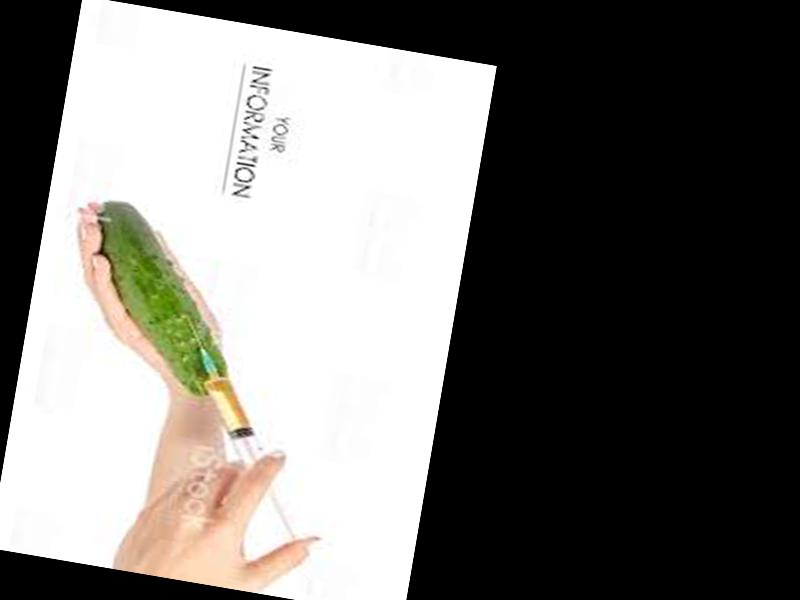Cucumber: (74, 200, 256, 399)
